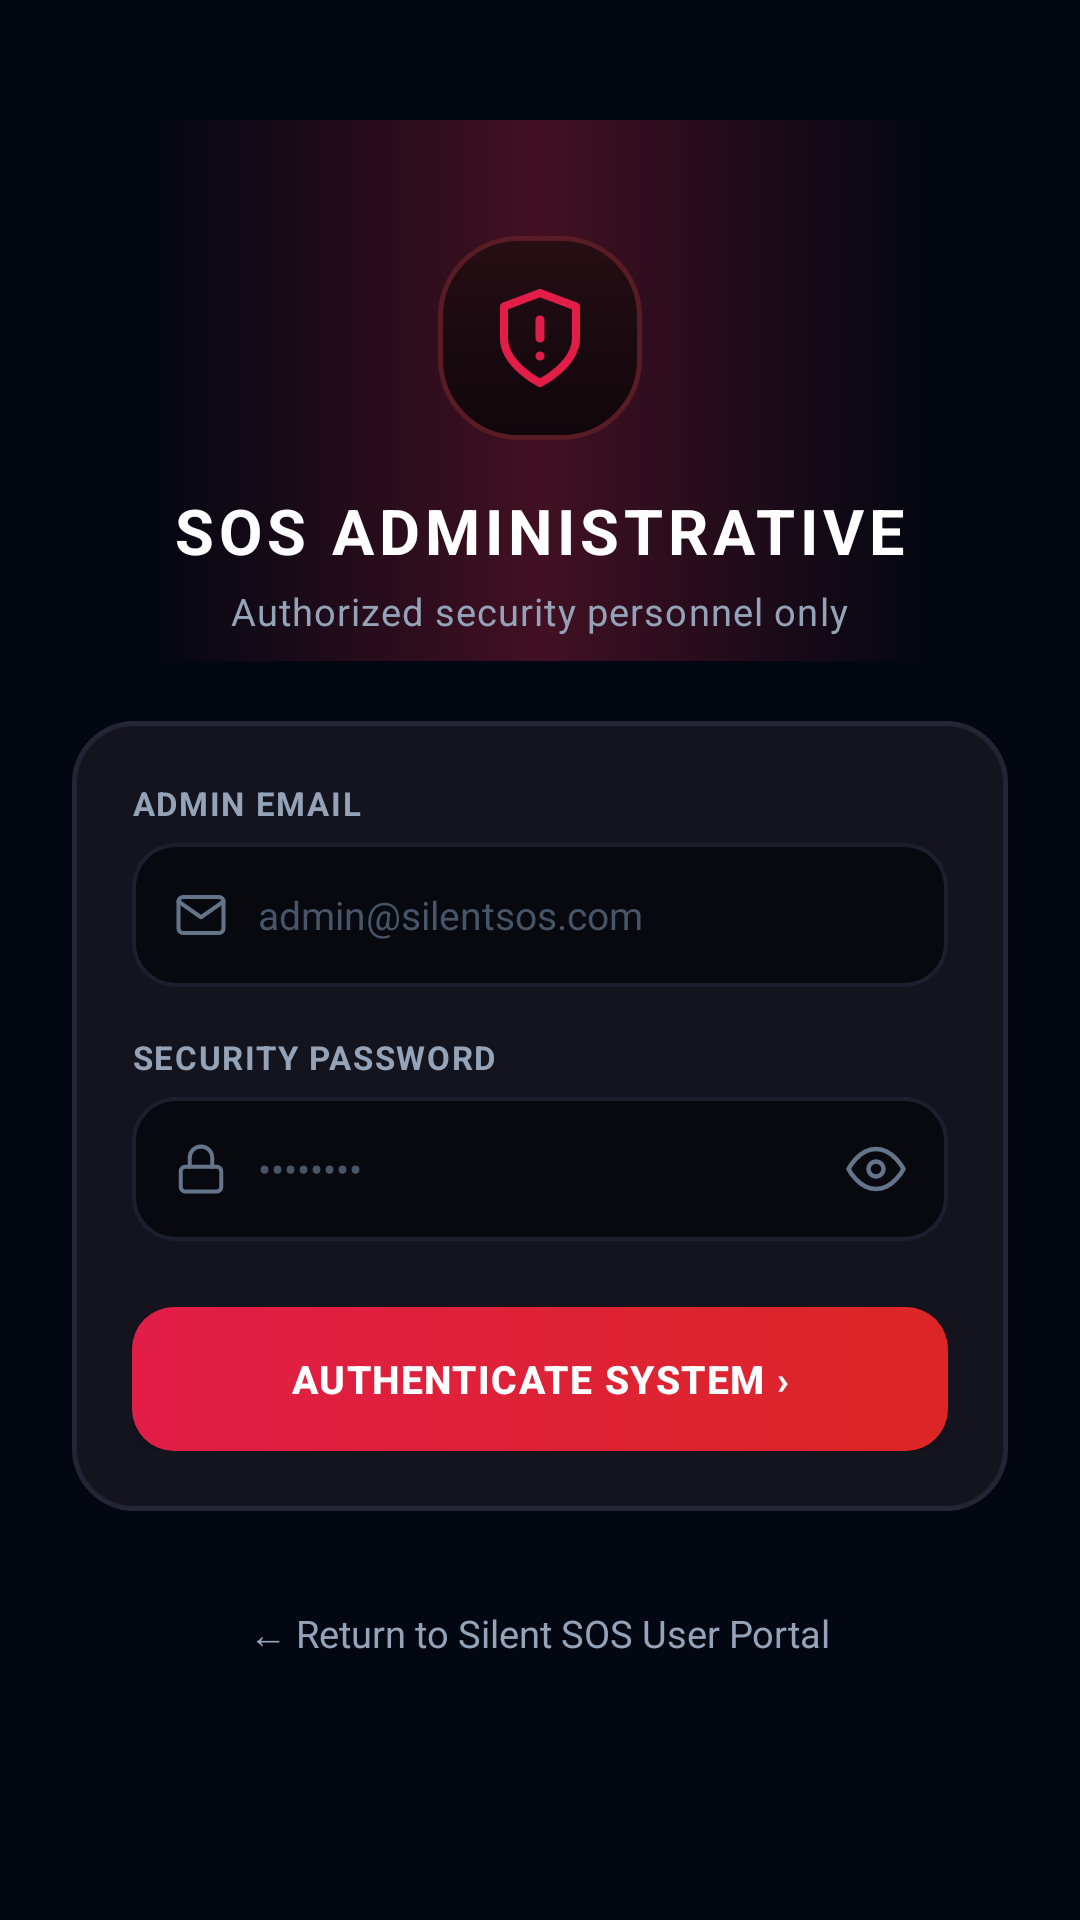

Point at icon controls on the screen. Image size 1080×1920, points as (x=x, y=y).
eye: (x=876, y=1169)
lock: (x=201, y=1169)
shield alert: (x=540, y=338)
